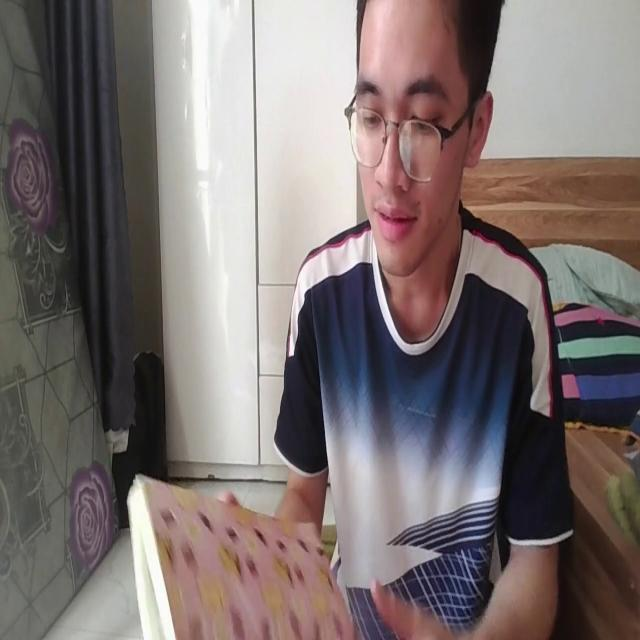book: (123, 471, 354, 640)
student: (273, 2, 565, 640)
